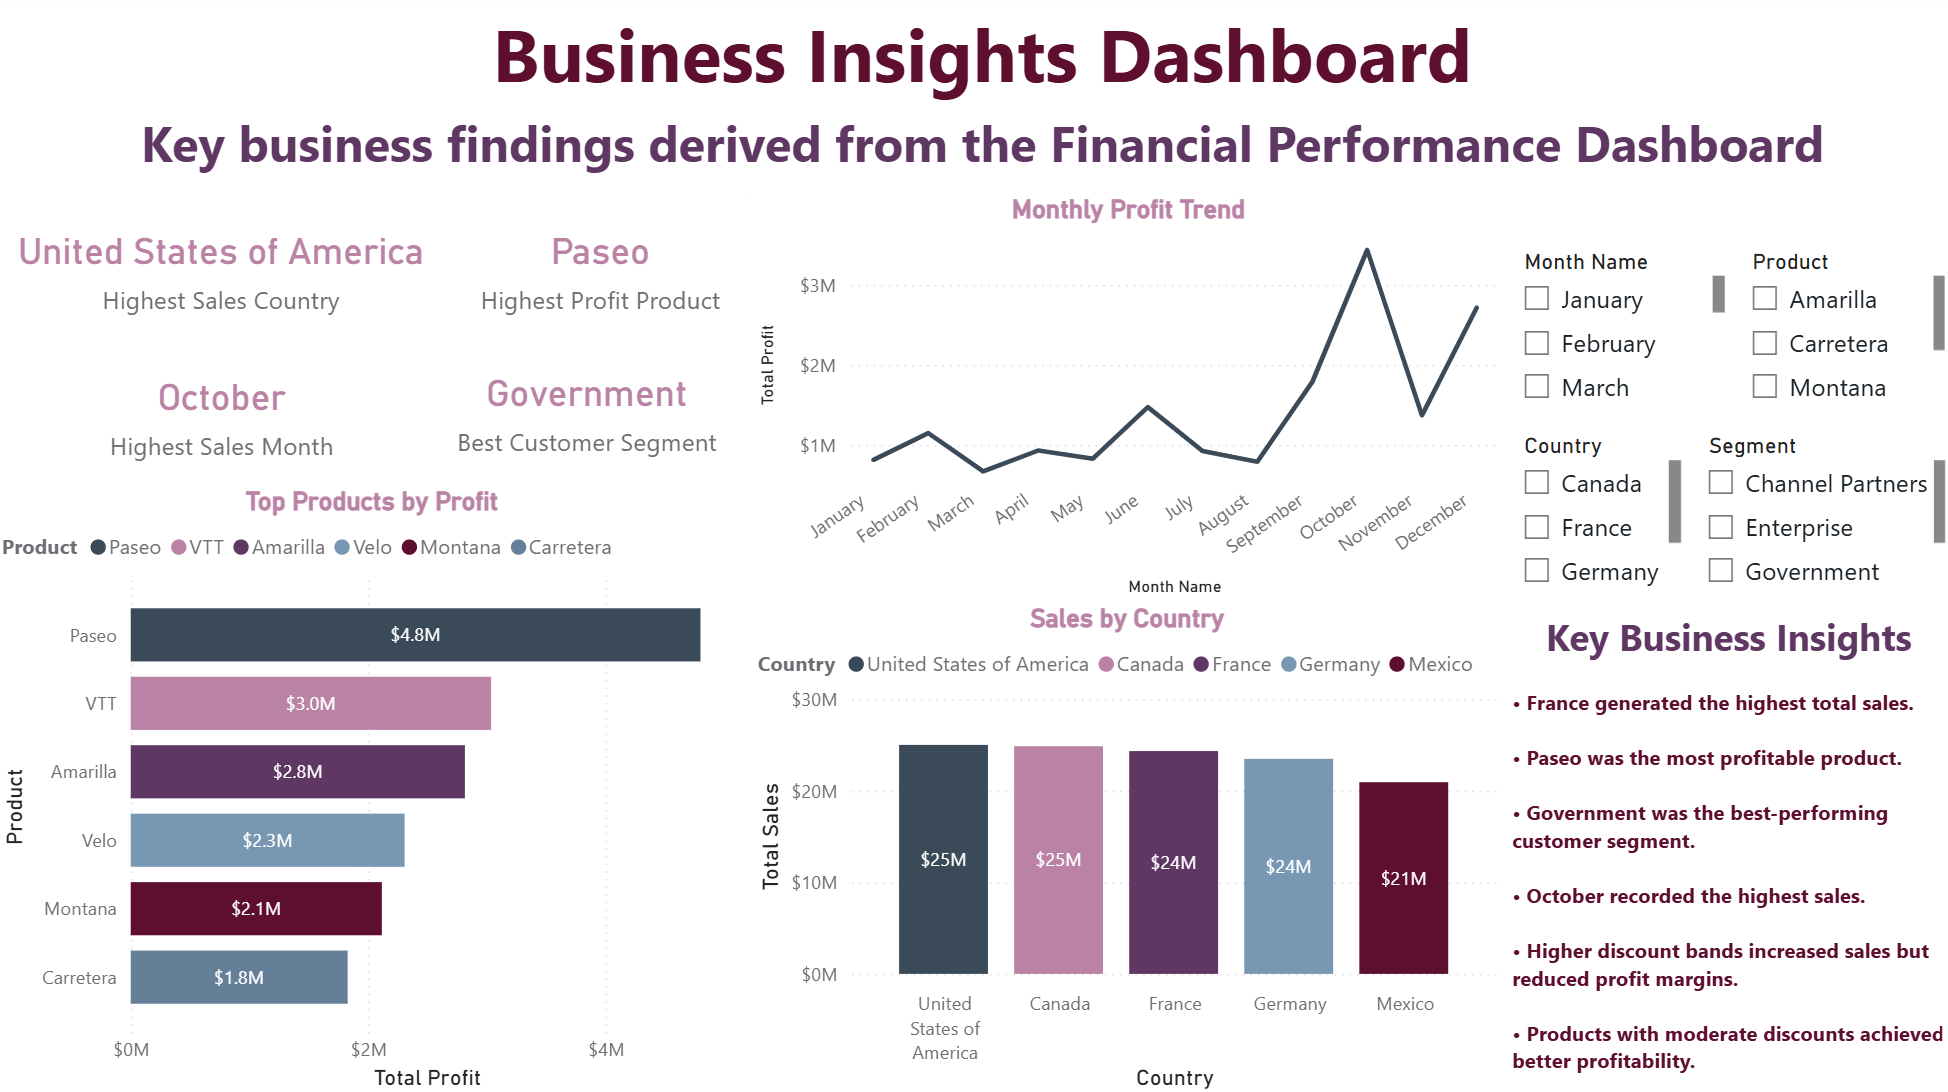

This screenshot's page, from the dashboard's own definition file:
{"tool":"powerbi","page":{"name":"Business Insights","canvas":[1280,720],"ordinal":4},"visuals":[{"type":"textbox","box":[10.4,0,1270,78.8],"z":0},{"type":"textbox","box":[10.3,69.9,1270.1,60.8],"z":1000},{"type":"card","fields":{"Values":["Dim_Country.Highest Sales Country"]},"box":[0,130.3,296,94.1],"z":2000},{"type":"card","fields":{"Values":["Dim_Country.Highest Profit Product"]},"box":[297,130.3,198,94.1],"z":3000},{"type":"card","fields":{"Values":["Dim_Country.Best Customer Segment"]},"box":[279.3,221.5,215.6,97],"z":4000},{"type":"card","fields":{"Values":["Dim_Country.Highest Sales Month"]},"box":[28.4,224.4,240.1,97],"z":5000},{"type":"barChart","title":"Top Products by Profit","fields":{"Category":["Dim_Product.Product"],"Series":["Dim_Product.Product"],"Y":["Measures (2).Total Profit"]},"box":[0,321.5,493.9,398.9],"z":6000},{"type":"columnChart","title":"Sales by Country","fields":{"Category":["Dim_Country.Country"],"Series":["Dim_Country.Country"],"Y":["Measures (2).Total Sales"]},"box":[494,398,493,322],"z":7000},{"type":"lineChart","title":"Monthly Profit Trend","fields":{"Category":["Dim_Date.Month Name"],"Y":["Measures (2).Total Profit"]},"box":[494.9,130.3,492.9,267.1],"z":8000},{"type":"slicer","fields":{"Values":["Dim_Country.Country"]},"box":[987,281,120.4,116.9],"z":9000},{"type":"slicer","fields":{"Values":["Dim_Product.Product"]},"box":[1136,161,144.4,120.4],"z":10000},{"type":"slicer","fields":{"Values":["Dim_Segment.Segment"]},"box":[1107,281,173.1,116.9],"z":11000},{"type":"textbox","box":[987,398,293,322],"z":12000},{"type":"slicer","fields":{"Values":["Dim_Date.Month Name"]},"box":[987,161,149,120.4],"z":13000}]}

Visuals, with their boxes in screenshot pixels (x1, y1, x2, y2), scaled from the page's 1280x720 canvas onto the 1948x1092 screenshot:
textbox: (16, 0, 1947, 120)
textbox: (16, 106, 1947, 198)
card - Dim_Country.Highest Sales Country: (0, 198, 450, 340)
card - Dim_Country.Highest Profit Product: (452, 198, 753, 340)
card - Dim_Country.Best Customer Segment: (425, 336, 753, 483)
card - Dim_Country.Highest Sales Month: (43, 340, 409, 487)
"Top Products by Profit" barChart: (0, 488, 752, 1091)
"Sales by Country" columnChart: (752, 604, 1502, 1091)
"Monthly Profit Trend" lineChart: (753, 198, 1503, 603)
slicer - Dim_Country.Country: (1502, 426, 1685, 603)
slicer - Dim_Product.Product: (1729, 244, 1947, 427)
slicer - Dim_Segment.Segment: (1685, 426, 1947, 603)
textbox: (1502, 604, 1947, 1091)
slicer - Dim_Date.Month Name: (1502, 244, 1729, 427)
